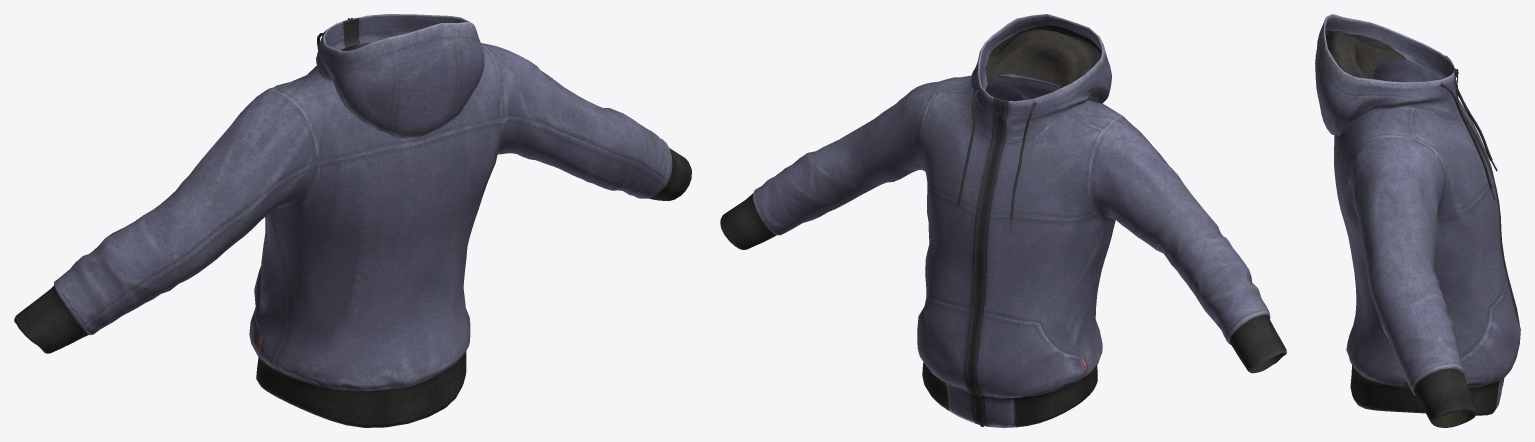
Rendered from utility_jacket.glb.
3 renders of one model, left to right at view 1: azimuth 30°, elevation 25°; view 2: azimuth 150°, elevation 25°; view 3: azimuth 270°, elevation 25°, orthographic. The views are drawn at different scales.
Parts seen in each view (by area): view 1: Torso_low; view 2: Torso_low, Lace_low; view 3: Torso_low, Lace_low.
Part boxes in pixels (<box>): Torso_low: <box>14,14,691,427</box>; Torso_low: <box>720,14,1286,427</box>; Lace_low: <box>953,88,1036,232</box>; Torso_low: <box>1315,14,1520,427</box>; Lace_low: <box>1440,55,1497,201</box>.
Bounding box in the file's own units: 5.56 × 3.32 × 1.66.
1 material, 1 textured.
